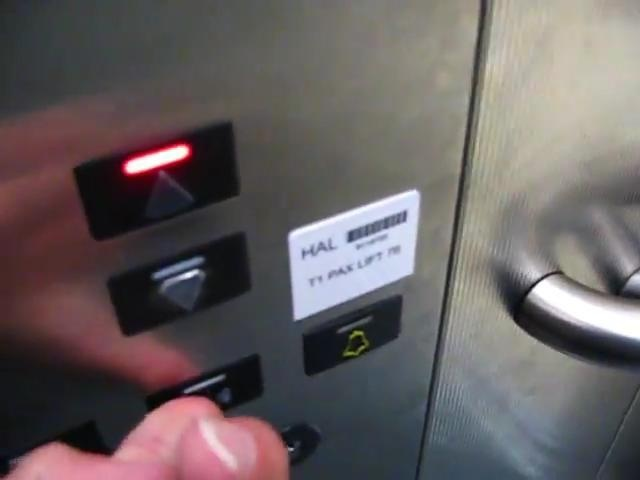alarm: (298, 290, 403, 380)
down: (101, 229, 255, 339)
up: (68, 114, 244, 242)
